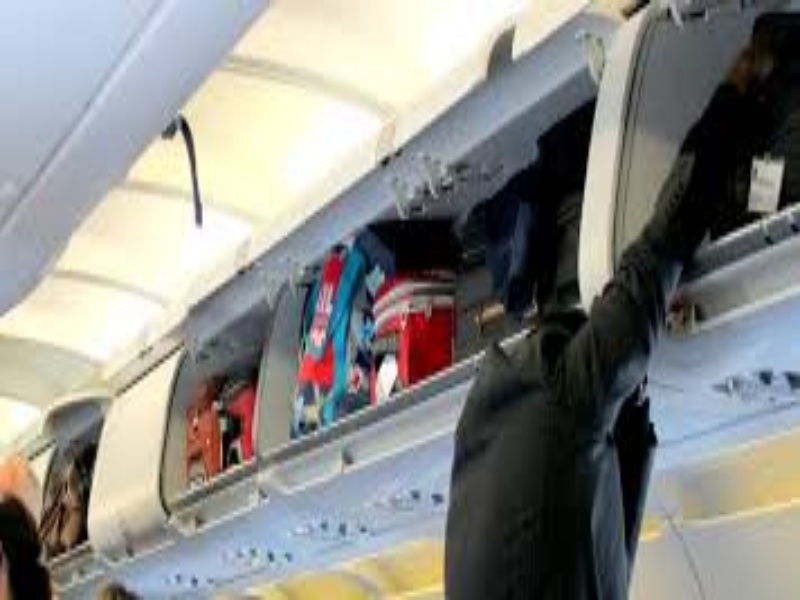close_bin: (86, 356, 182, 566)
open_bin: (262, 21, 623, 463), (610, 3, 796, 285), (172, 293, 282, 513), (40, 416, 104, 575)
